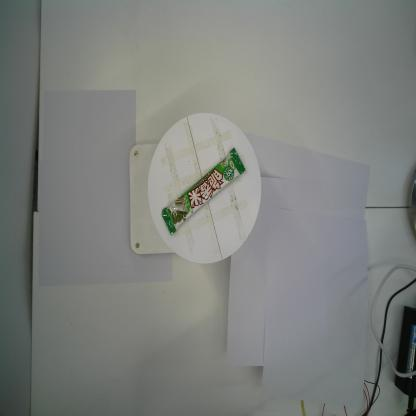Chocolate: (161, 146, 247, 236)
